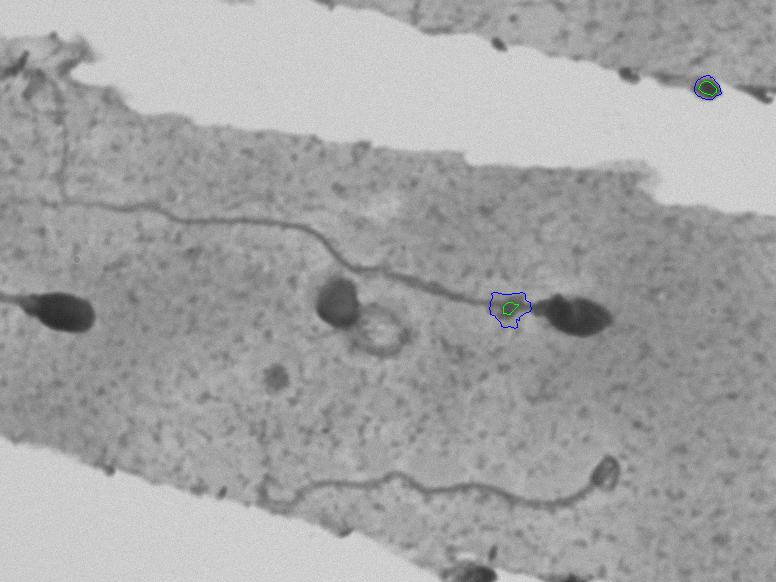Abnormal: (127, 149, 627, 385)
